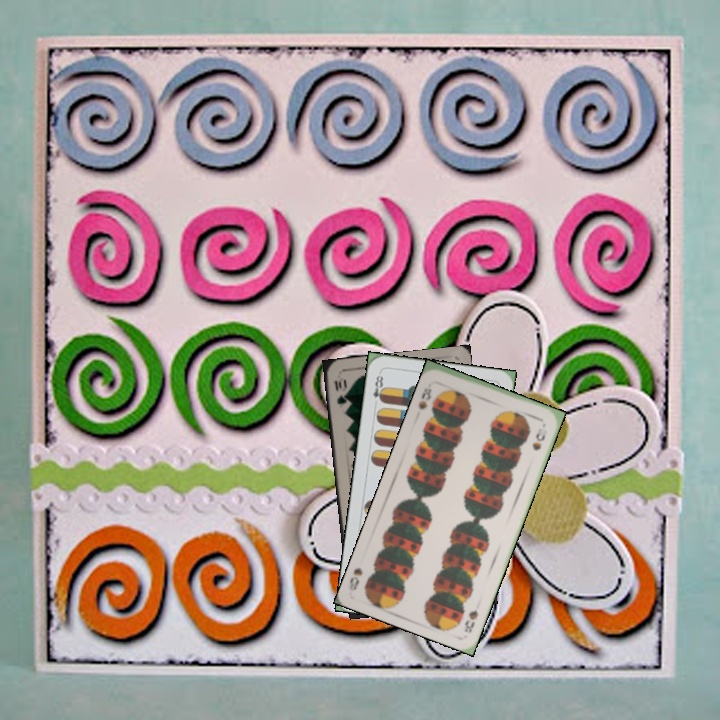E8: (369, 368, 387, 405)
G10: (330, 374, 350, 407)
S8: (460, 606, 481, 636), (414, 383, 434, 412)
